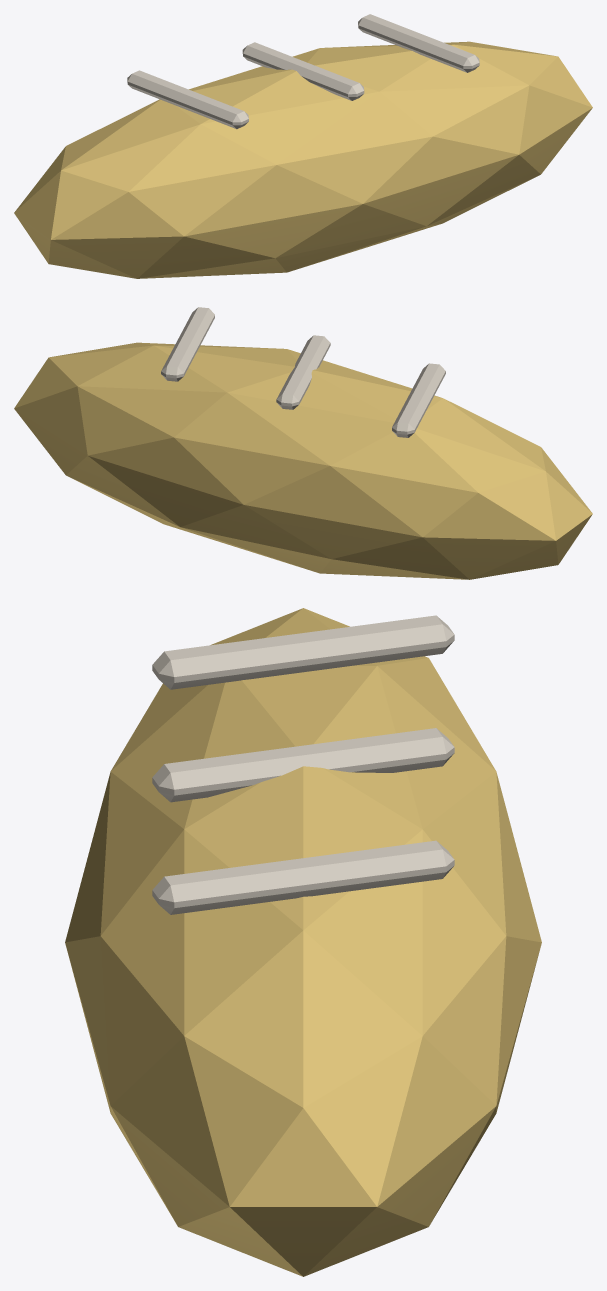
File: prop-moka-bread-long.glb
The picture shows the model from 3 angles, top to bottom: view 1: azimuth 30°, elevation 25°; view 2: azimuth 150°, elevation 25°; view 3: azimuth 270°, elevation 25°; orthographic projection. The views are drawn at different scales.
Visible parts, largest first — view 1: prop-moka-bread-long; view 2: prop-moka-bread-long; view 3: prop-moka-bread-long.
Part boxes in pixels (bbox=[...]): prop-moka-bread-long: bbox=[14, 14, 592, 278]; prop-moka-bread-long: bbox=[14, 307, 592, 579]; prop-moka-bread-long: bbox=[65, 608, 541, 1276].
Size of the model in its own units: 0.42 by 0.14 by 0.16.
